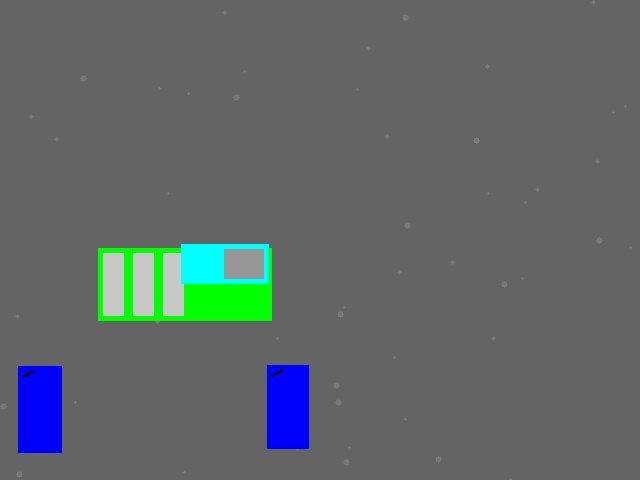bus: (98, 248, 271, 320)
motorcycle: (18, 366, 61, 452), (267, 365, 308, 448)
truck: (181, 244, 268, 283)
